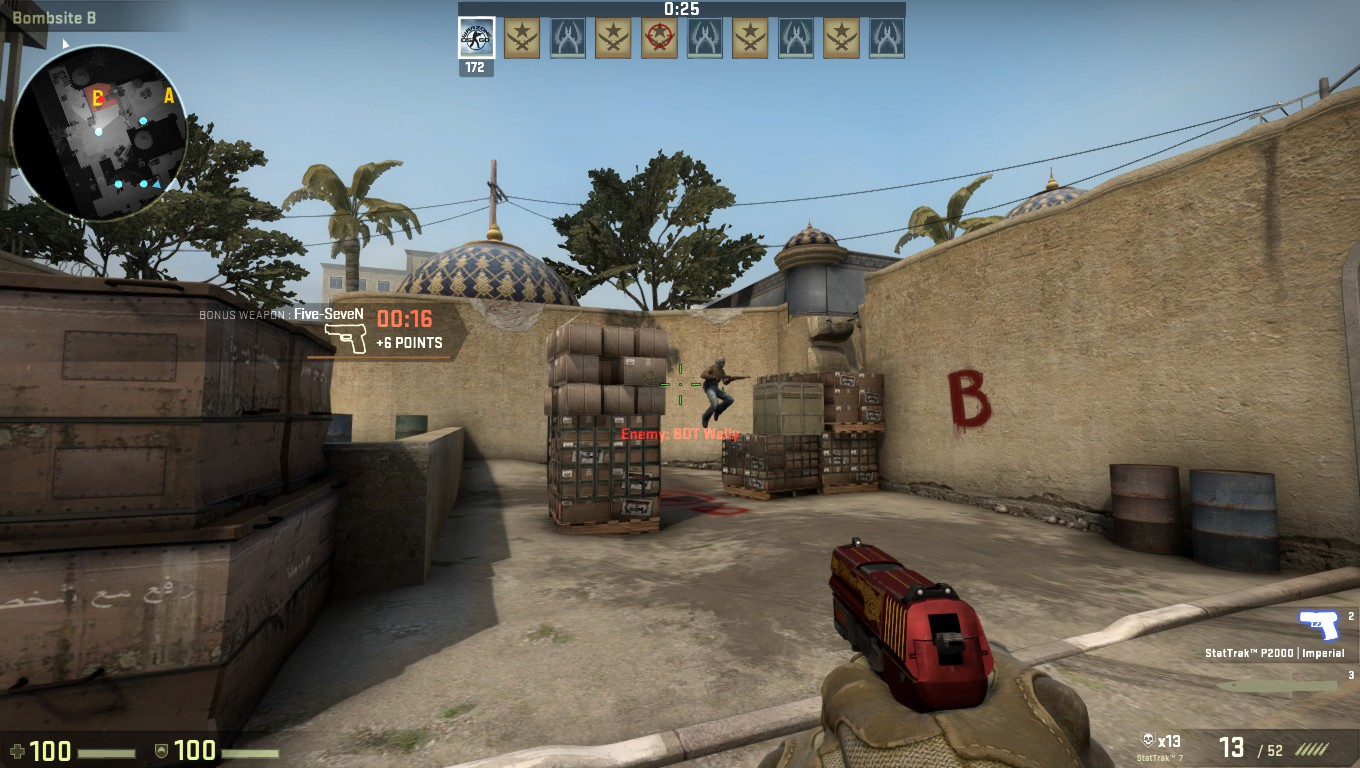t: (697, 356, 735, 424)
th: (710, 354, 731, 370)
